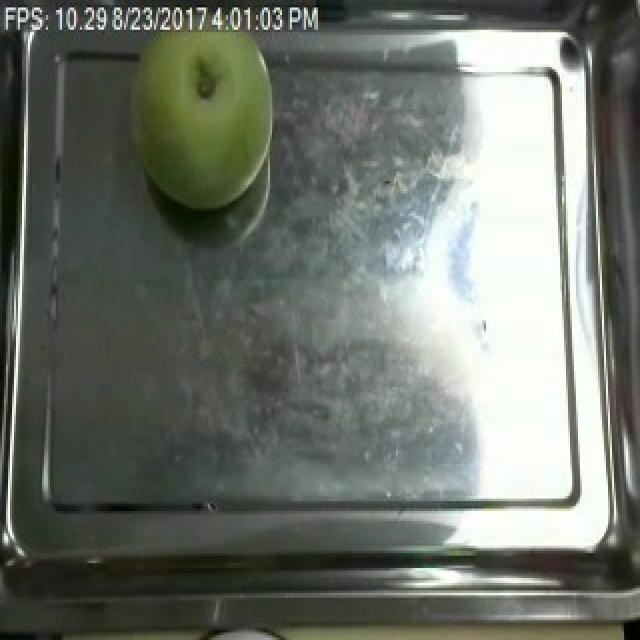50-_ripeness: (129, 4, 287, 233)
